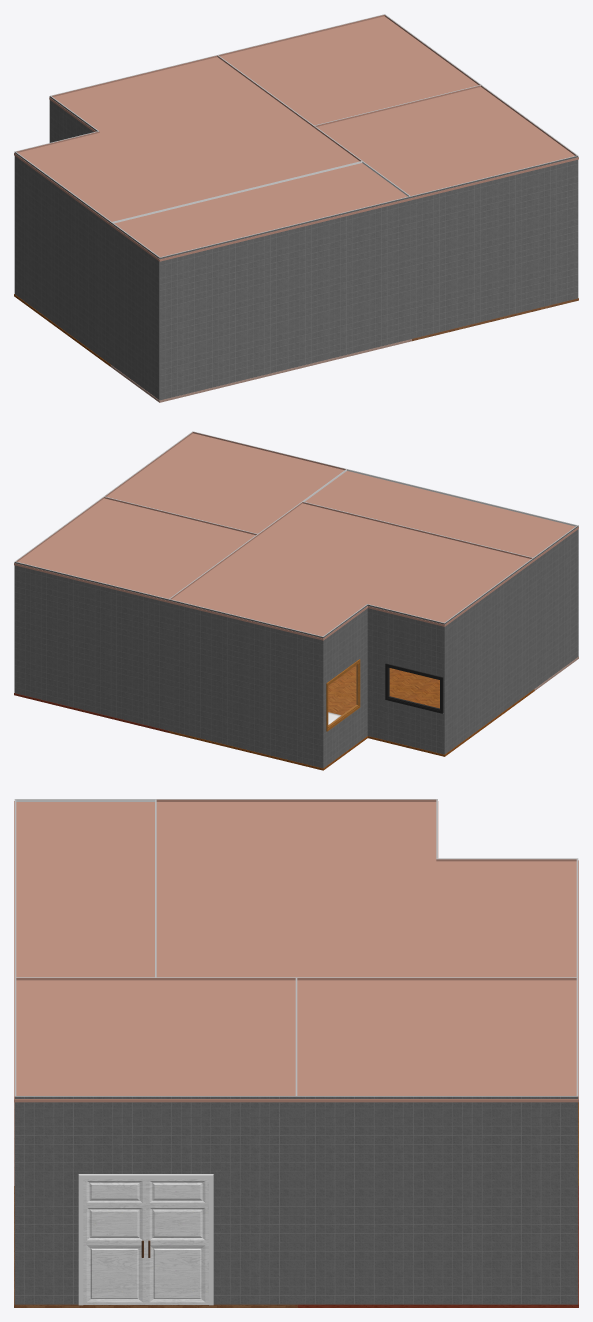
Rendered from ProcTHOR-Train-147.glb.
3 views of the same model, one above another, from view 1: azimuth 30°, elevation 25°; view 2: azimuth 150°, elevation 25°; view 3: azimuth 270°, elevation 25° (orthographic). The views are drawn at different scales.
Visible parts, largest first — view 1: WallInside#wall|exterior|4.09|10.23|10.23|10.23, Ceiling#room|4|c, WallInside#wall|exterior|0.00|10.23|4.09|10.23, Ceiling#room|6|c, Ceiling#room|7|c, WallInside#wall|exterior|10.23|4.09|10.23|8.19, Ceiling#room|5|c, WallInside#wall|exterior|10.23|8.19|10.23|10.23, WallInside#wall|exterior|8.19|2.05|8.19|4.09, Floor#room|5|f, WallInside#wall|5|4.09|8.19|10.23|8.19, Floor#room|6|f; view 2: Ceiling#room|4|c, WallInside#wall|exterior|0.00|2.05|4.09|2.05, WallInside#wall|exterior|4.09|2.05|8.19|2.05, Ceiling#room|7|c, Ceiling#room|6|c, WallInside#wall|exterior|10.23|4.09|10.23|8.19, Ceiling#room|5|c, WallInside#wall|exterior|8.19|4.09|10.23|4.09, WallInside#wall|exterior|10.23|8.19|10.23|10.23, WallInside#wall|exterior|8.19|2.05|8.19|4.09, Floor#room|4|f, Window_Fixed_60x36 (+4 smaller); view 3: Ceiling#room|4|c, WallInside#wall|exterior|0.00|2.05|0.00|6.14, WallInside#wall|exterior|0.00|6.14|0.00|10.23, Ceiling#room|6|c, Ceiling#room|7|c, Ceiling#room|5|c, Doorway_Door_8a, Doorway_Door_8b, Doorway_Double_8, Floor#room|7|f, WallInside#wall|7|4.09|2.05|4.09|6.14, Floor#room|6|f (+1 smaller).
Part boxes in pixels (bbox=[...]): WallInside#wall|exterior|4.09|10.23|10.23|10.23: bbox=[159, 196, 411, 400]; Ceiling#room|4|c: bbox=[14, 57, 359, 225]; WallInside#wall|exterior|0.00|10.23|4.09|10.23: bbox=[410, 155, 578, 338]; Ceiling#room|6|c: bbox=[314, 87, 578, 200]; Ceiling#room|7|c: bbox=[220, 16, 478, 127]; WallInside#wall|exterior|10.23|4.09|10.23|8.19: bbox=[14, 152, 111, 364]; Ceiling#room|5|c: bbox=[111, 163, 411, 261]; WallInside#wall|exterior|10.23|8.19|10.23|10.23: bbox=[111, 222, 159, 399]; WallInside#wall|exterior|8.19|2.05|8.19|4.09: bbox=[49, 96, 97, 142]; Floor#room|5|f: bbox=[110, 339, 411, 402]; WallInside#wall|5|4.09|8.19|10.23|8.19: bbox=[112, 161, 362, 223]; Floor#room|6|f: bbox=[410, 298, 578, 341]; Ceiling#room|4|c: bbox=[168, 503, 534, 640]; WallInside#wall|exterior|0.00|2.05|4.09|2.05: bbox=[14, 562, 169, 730]; WallInside#wall|exterior|4.09|2.05|8.19|2.05: bbox=[168, 599, 323, 768]; Ceiling#room|7|c: bbox=[14, 498, 255, 602]; Ceiling#room|6|c: bbox=[104, 433, 344, 533]; WallInside#wall|exterior|10.23|4.09|10.23|8.19: bbox=[444, 558, 533, 754]; Ceiling#room|5|c: bbox=[304, 471, 578, 560]; WallInside#wall|exterior|8.19|4.09|10.23|4.09: bbox=[367, 604, 444, 754]; WallInside#wall|exterior|10.23|8.19|10.23|10.23: bbox=[534, 525, 578, 688]; WallInside#wall|exterior|8.19|2.05|8.19|4.09: bbox=[323, 604, 367, 767]; Floor#room|4|f: bbox=[168, 665, 534, 770]; Window_Fixed_60x36: bbox=[385, 663, 443, 713]; Ceiling#room|4|c: bbox=[154, 801, 578, 980]; WallInside#wall|exterior|0.00|2.05|0.00|6.14: bbox=[295, 1096, 578, 1304]; WallInside#wall|exterior|0.00|6.14|0.00|10.23: bbox=[14, 1096, 297, 1304]; Ceiling#room|6|c: bbox=[14, 980, 297, 1102]; Ceiling#room|7|c: bbox=[295, 980, 578, 1102]; Ceiling#room|5|c: bbox=[14, 801, 157, 980]; Doorway_Door_8a: bbox=[146, 1179, 208, 1304]; Doorway_Door_8b: bbox=[83, 1179, 145, 1304]; Doorway_Double_8: bbox=[78, 1174, 213, 1305]; Floor#room|7|f: bbox=[295, 1186, 578, 1307]; WallInside#wall|7|4.09|2.05|4.09|6.14: bbox=[297, 977, 576, 980]; Floor#room|6|f: bbox=[14, 1186, 297, 1307].
Size of what is drawn, in the model's own units: 10.34 by 3.4 by 8.23.
Materials: 267 (108 with a texture image).
